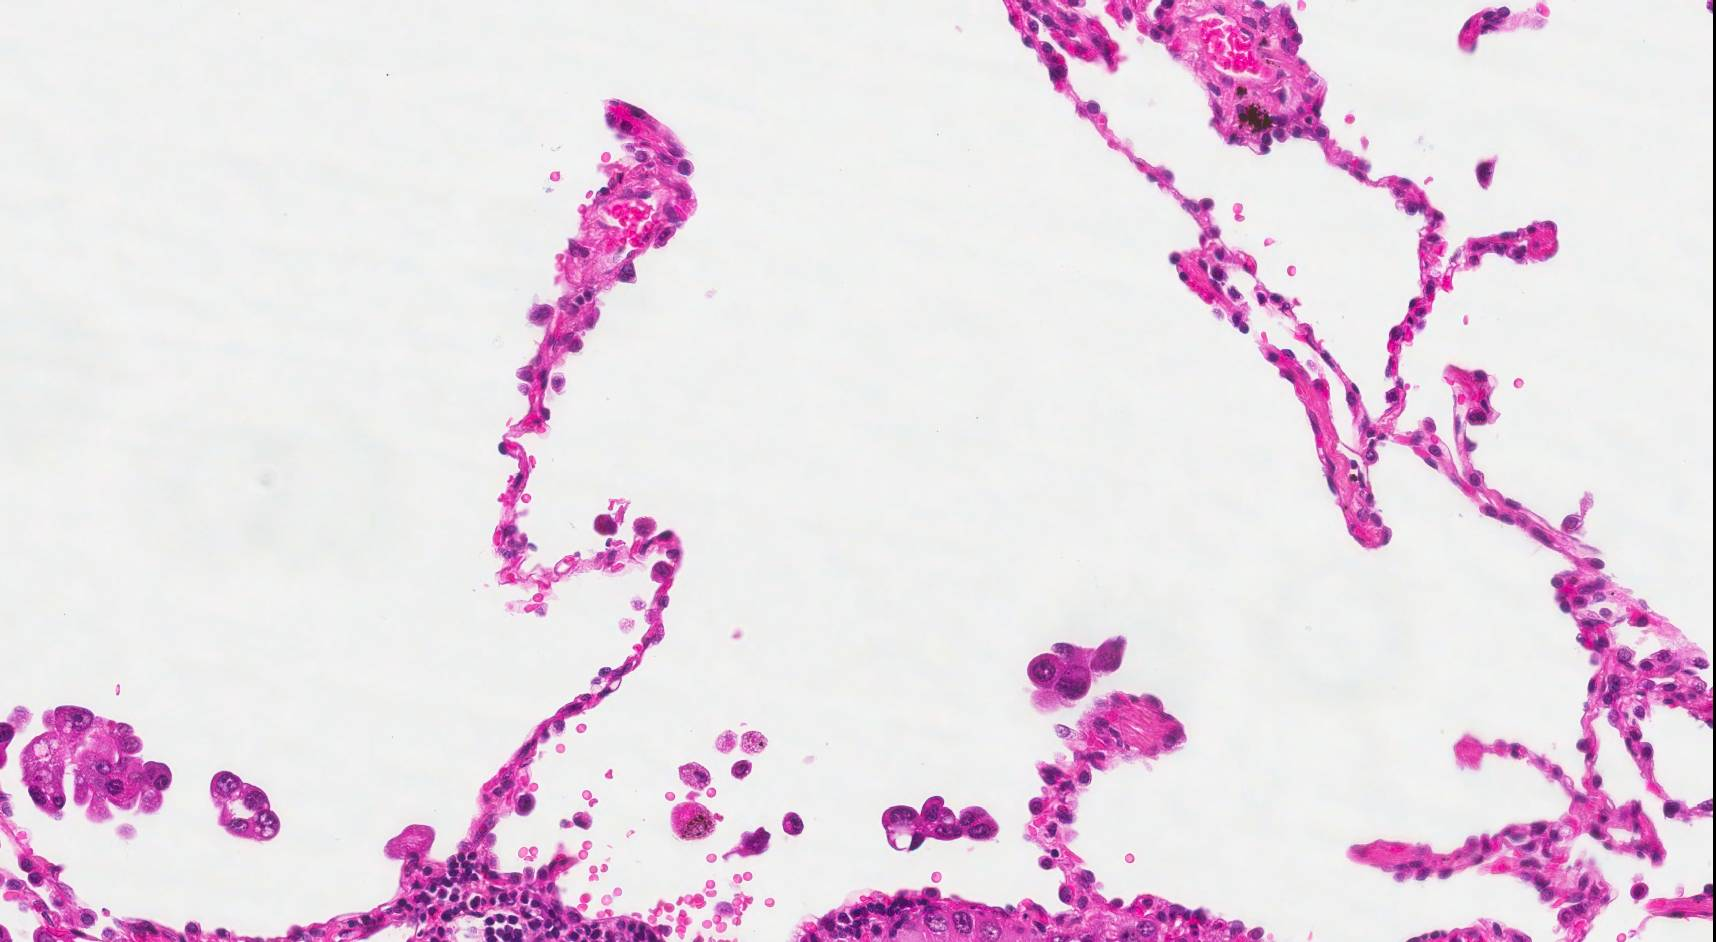stas: (23, 705, 173, 823), (874, 791, 1001, 856), (1029, 631, 1128, 703), (208, 770, 280, 843)
